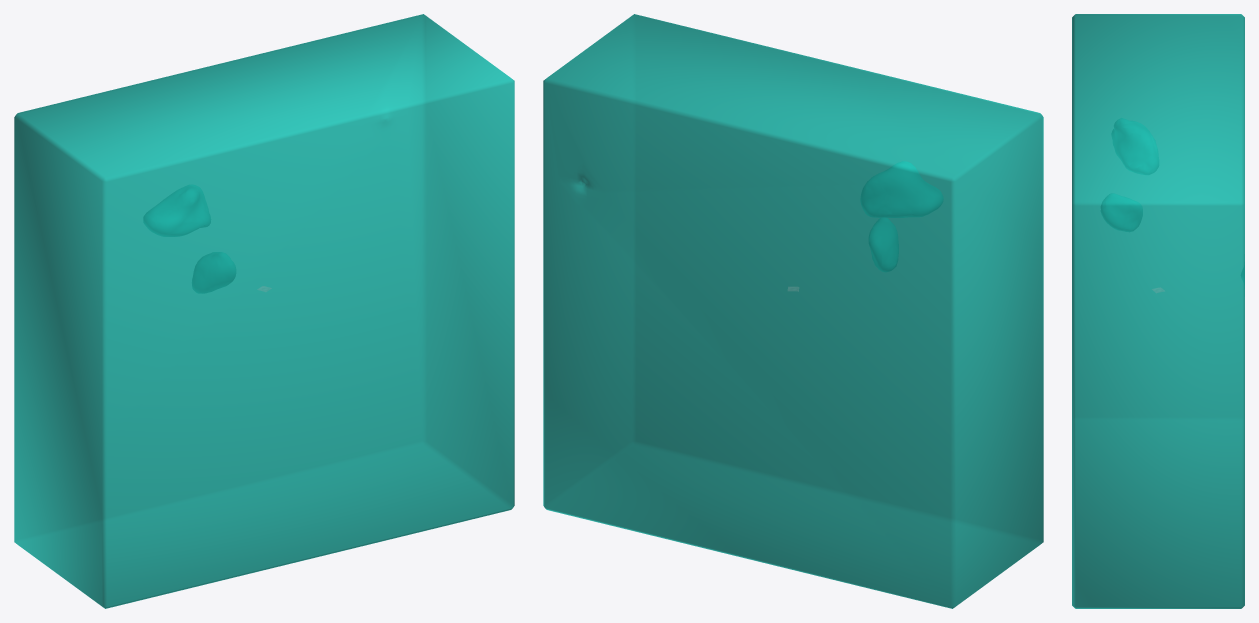
The picture shows the model from 3 angles, left to right: view 1: azimuth 30°, elevation 25°; view 2: azimuth 150°, elevation 25°; view 3: azimuth 270°, elevation 25°; orthographic projection. The views are drawn at different scales.
Parts seen in each view (by area): view 1: Liquid_Domain; view 2: Liquid_Domain; view 3: Liquid_Domain.
Part boxes in pixels (x1,y1,x2,y2): Liquid_Domain: (14,14,514,608); Liquid_Domain: (543,14,1043,608); Liquid_Domain: (1072,14,1244,608).
Bounding box in the file's own units: 1948 × 1948 × 748.
